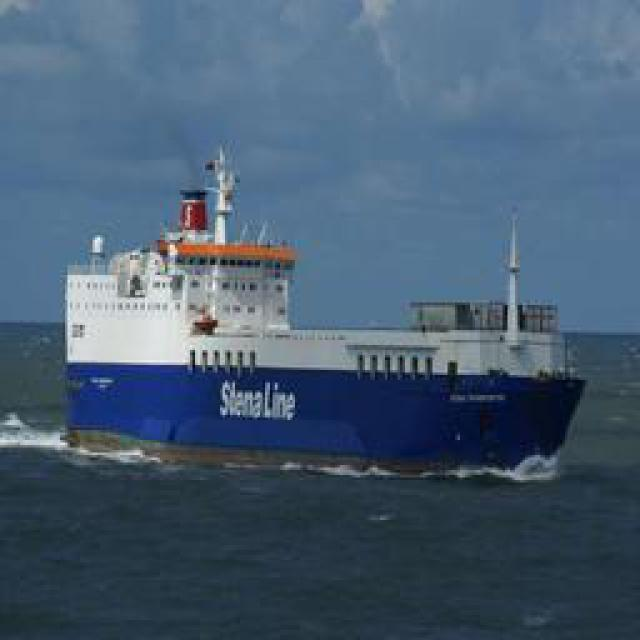Ship: (71, 117, 586, 457)
